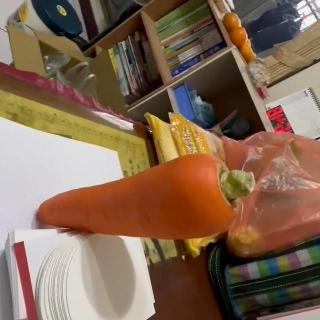carrot: (37, 152, 257, 241)
